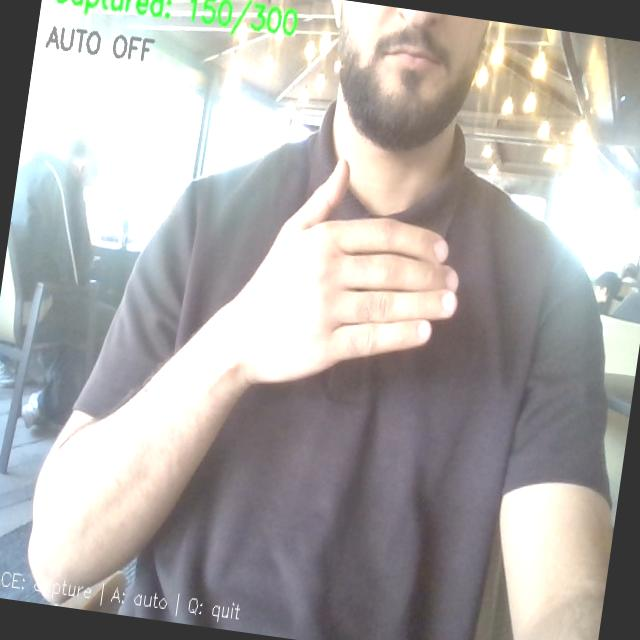Hand: (224, 160, 457, 384)
